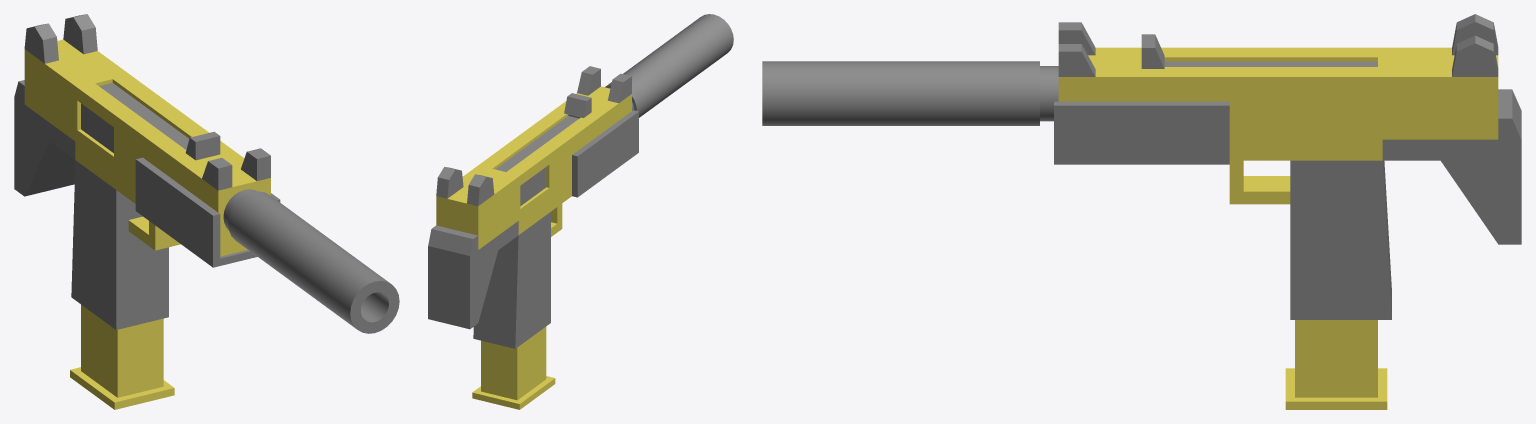
The model's file is uziGoldLongSilencer.glb.
3 views of the same model, side by side, from view 1: azimuth 30°, elevation 25°; view 2: azimuth 150°, elevation 25°; view 3: azimuth 270°, elevation 25° (orthographic). The views are drawn at different scales.
Parts seen in each view (by area): view 1: Mesh1 Group2 Group1 Model, Mesh5 Group6 Group1 Model, Mesh2 Group3 Group1 Model, Mesh3 Group4 Group1 Model, Mesh4 Group5 Group1 Model; view 2: Mesh1 Group2 Group1 Model, Mesh3 Group4 Group1 Model, Mesh5 Group6 Group1 Model, Mesh2 Group3 Group1 Model, Mesh4 Group5 Group1 Model; view 3: Mesh1 Group2 Group1 Model, Mesh5 Group6 Group1 Model, Mesh3 Group4 Group1 Model, Mesh2 Group3 Group1 Model, Mesh4 Group5 Group1 Model.
Boxes of the visible parts, <box> form: Mesh1 Group2 Group1 Model: <box>24,14,280,329</box>; Mesh5 Group6 Group1 Model: <box>228,191,399,333</box>; Mesh2 Group3 Group1 Model: <box>70,304,174,409</box>; Mesh3 Group4 Group1 Model: <box>14,80,75,196</box>; Mesh4 Group5 Group1 Model: <box>185,131,220,160</box>; Mesh1 Group2 Group1 Model: <box>436,66,638,348</box>; Mesh3 Group4 Group1 Model: <box>428,221,518,329</box>; Mesh5 Group6 Group1 Model: <box>605,14,733,117</box>; Mesh2 Group3 Group1 Model: <box>472,326,555,409</box>; Mesh4 Group5 Group1 Model: <box>564,93,591,118</box>; Mesh1 Group2 Group1 Model: <box>1040,14,1498,319</box>; Mesh5 Group6 Group1 Model: <box>762,61,1039,125</box>; Mesh3 Group4 Group1 Model: <box>1382,89,1521,244</box>; Mesh2 Group3 Group1 Model: <box>1285,320,1387,409</box>; Mesh4 Group5 Group1 Model: <box>1141,34,1164,68</box>.
Size of the model in its own units: 0.0114 by 0.0522 by 0.0985.
